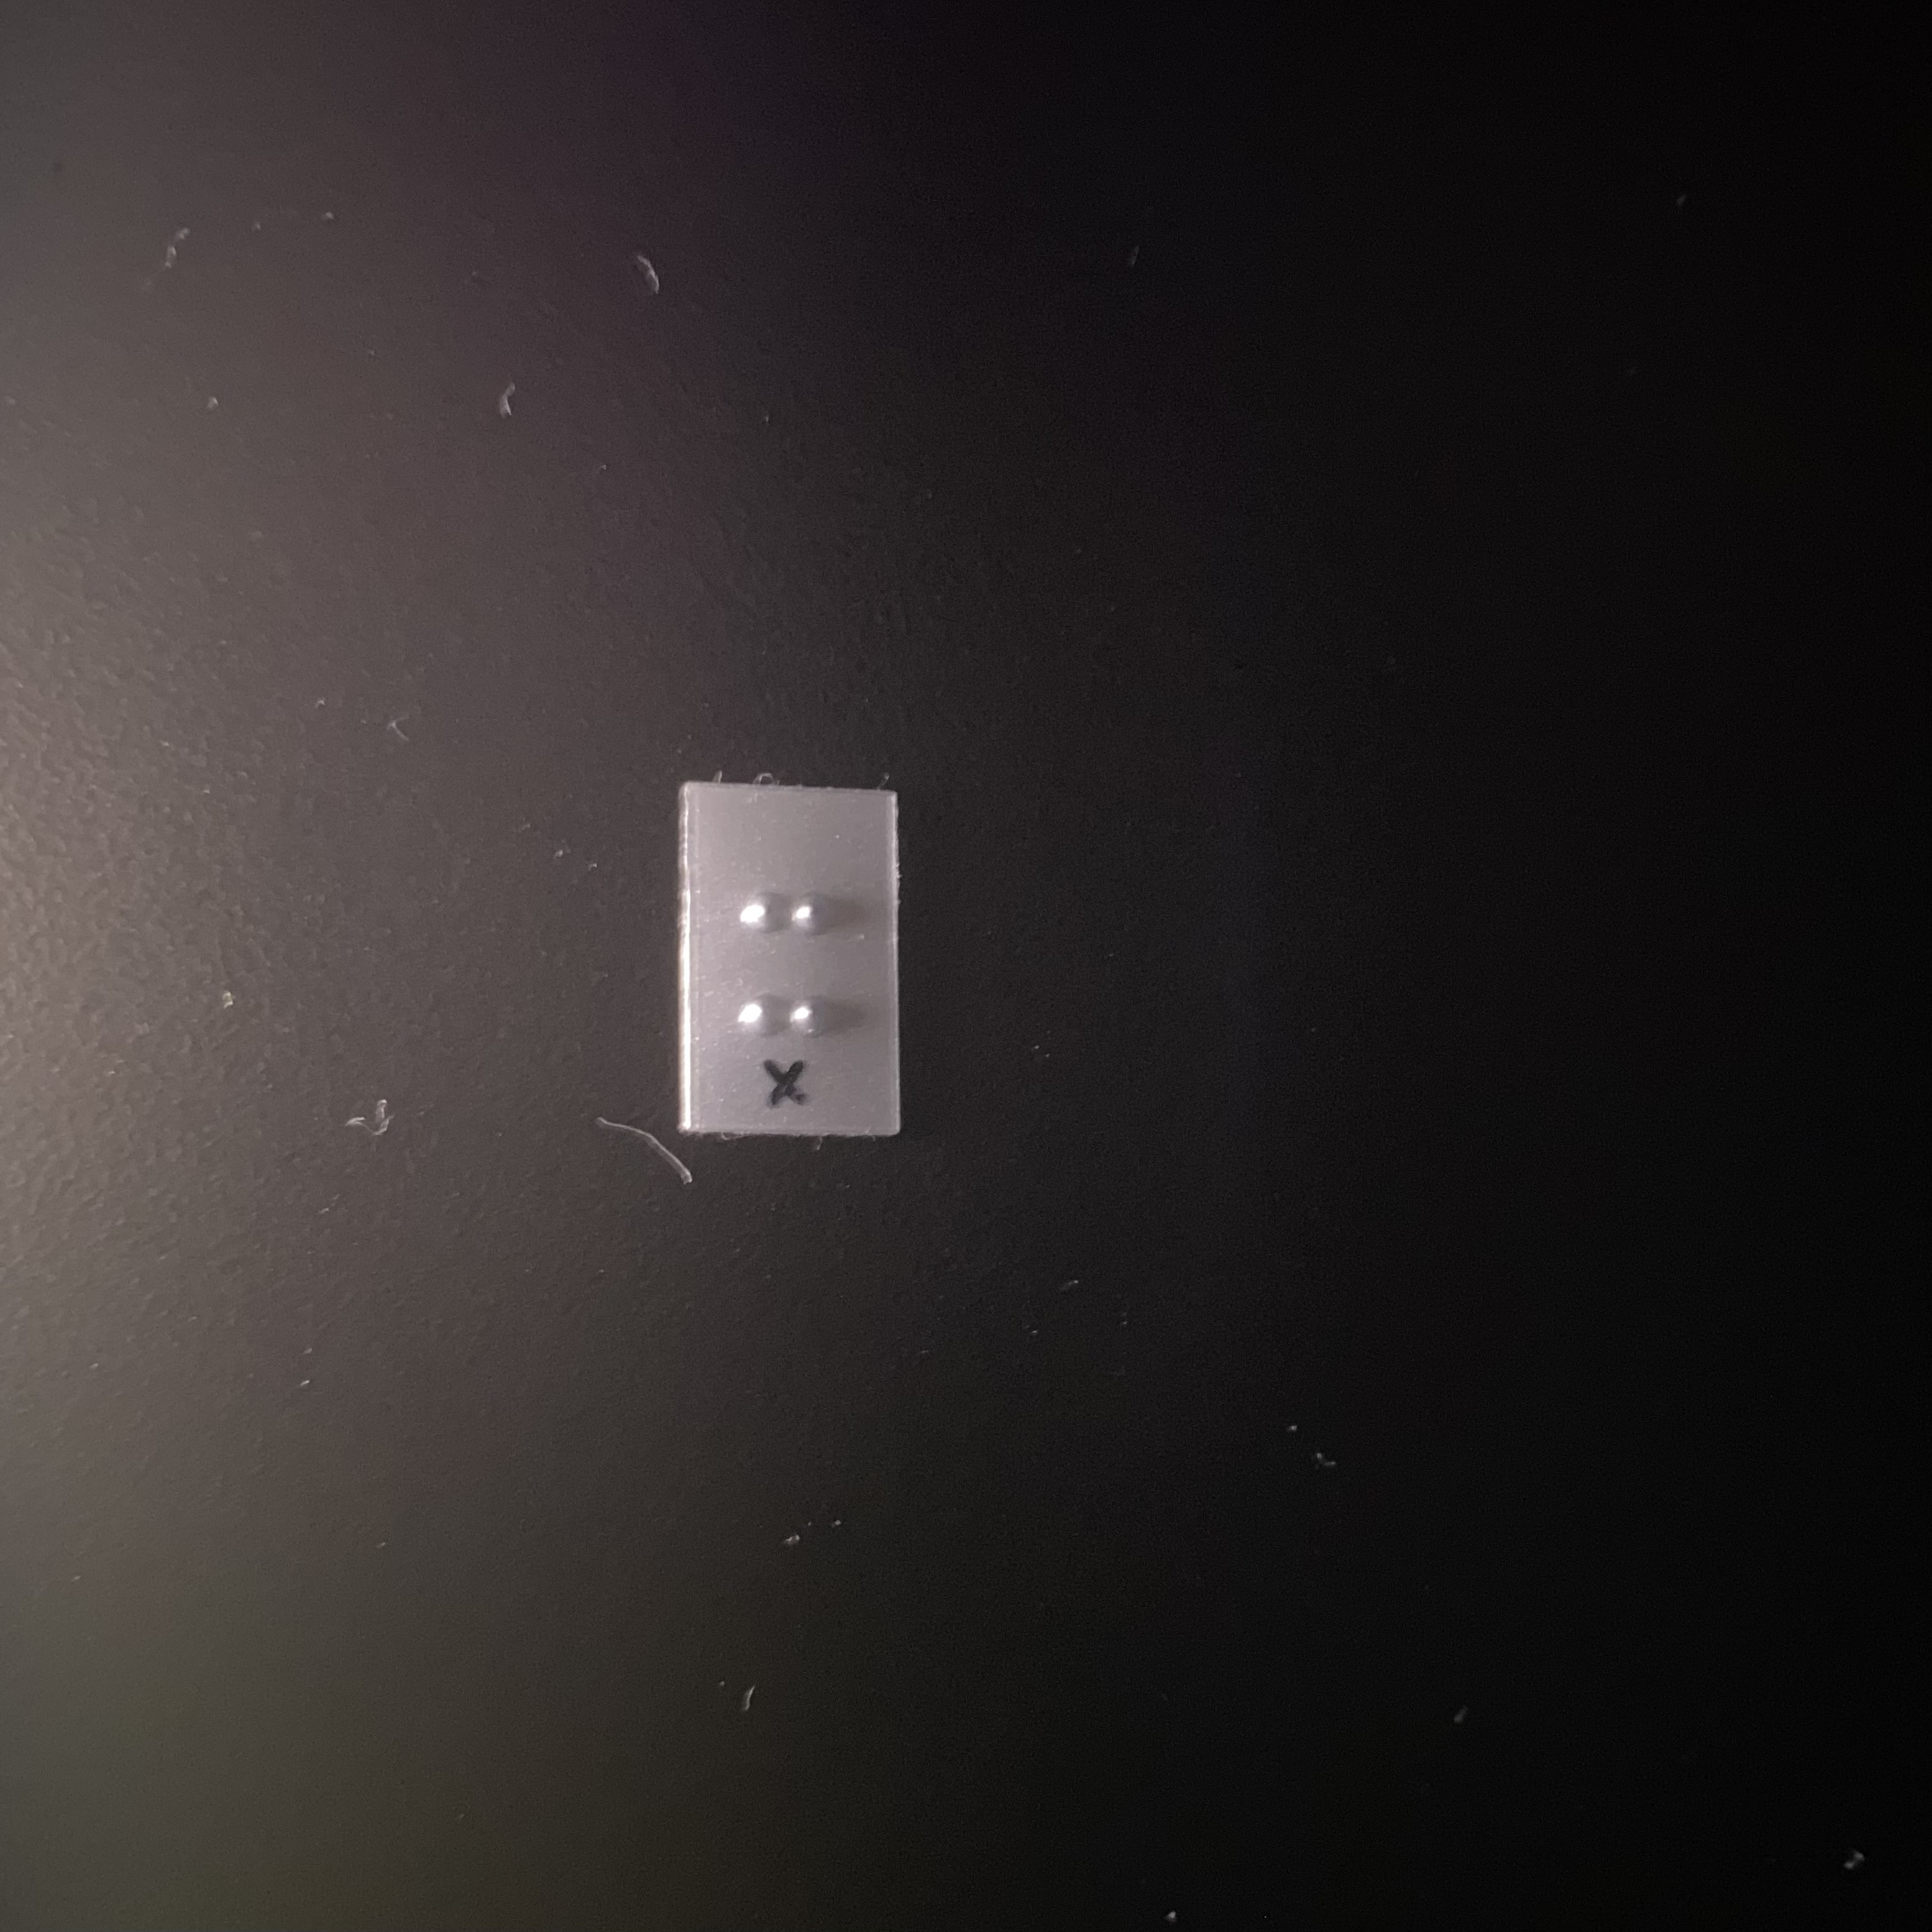x: (732, 874, 864, 1042)
